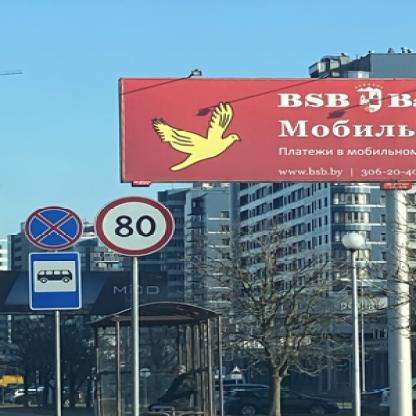Speed Limit 80: (98, 194, 172, 258)
